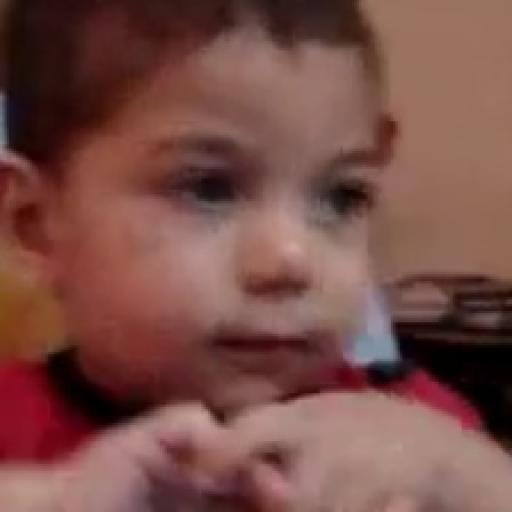Autism: (88, 33, 511, 501)
